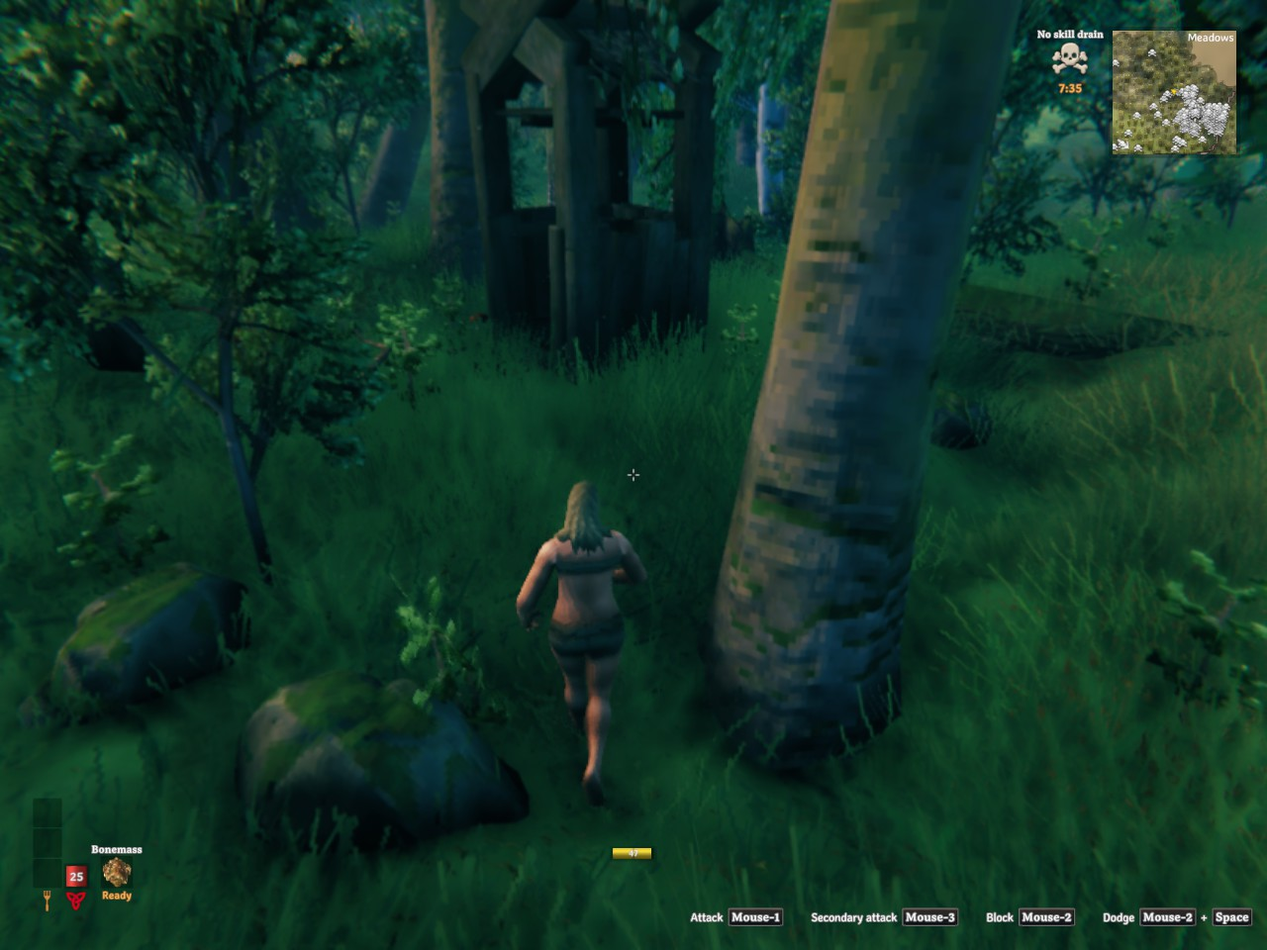House: (465, 1, 715, 362)
